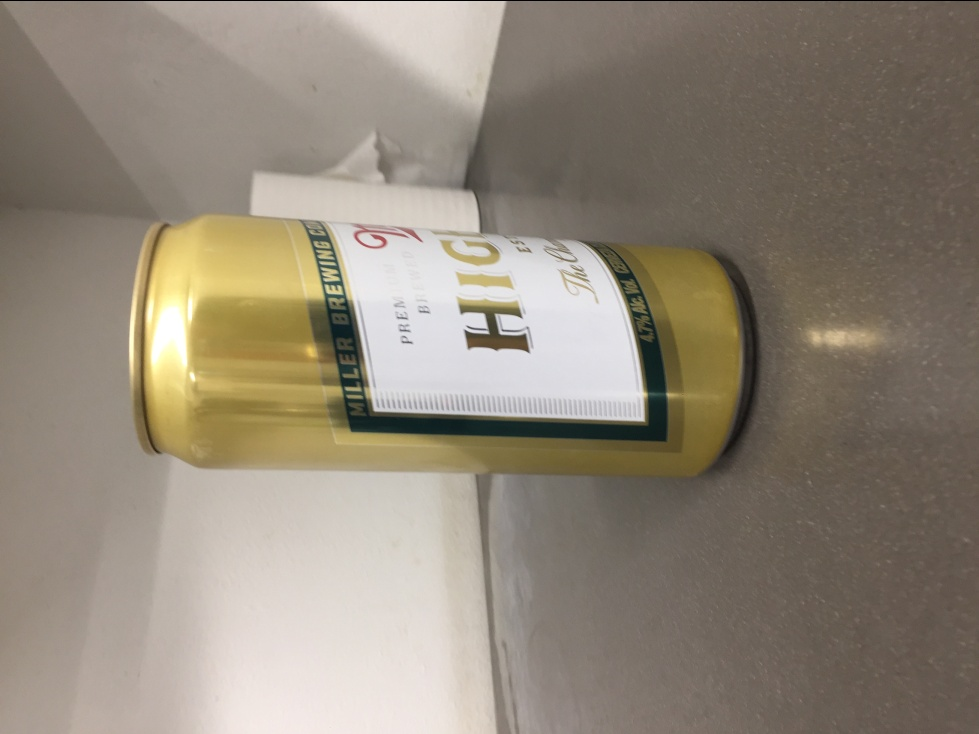miller: (124, 205, 760, 484)
